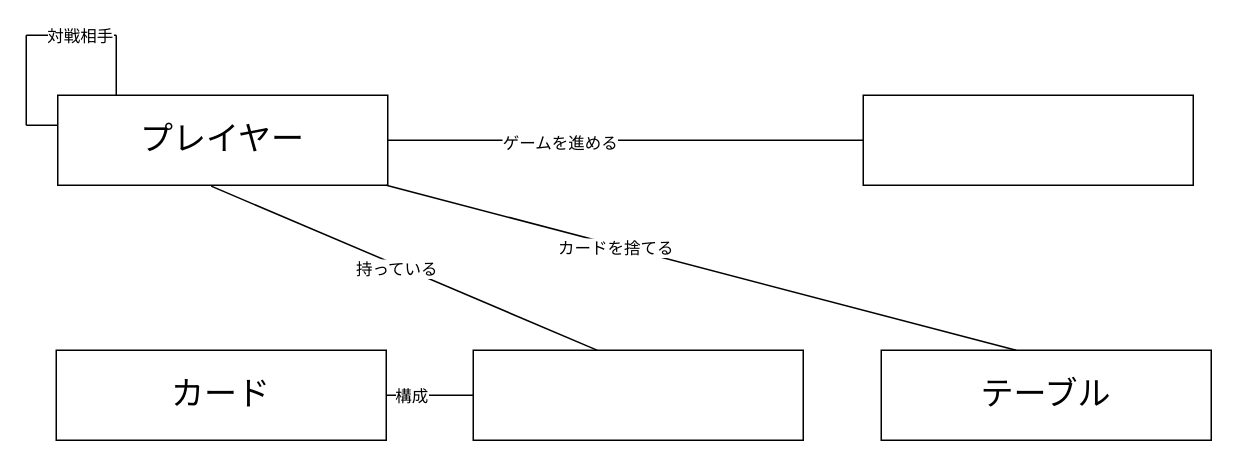
Some shapes in this 1238 by 467 pixel diagram are drawn without their labels. Here are the shapes that lost their labels. From the top down, the box of each, then its label:
(862, 94, 1193, 185): 進行役
(472, 349, 803, 440): 手札
